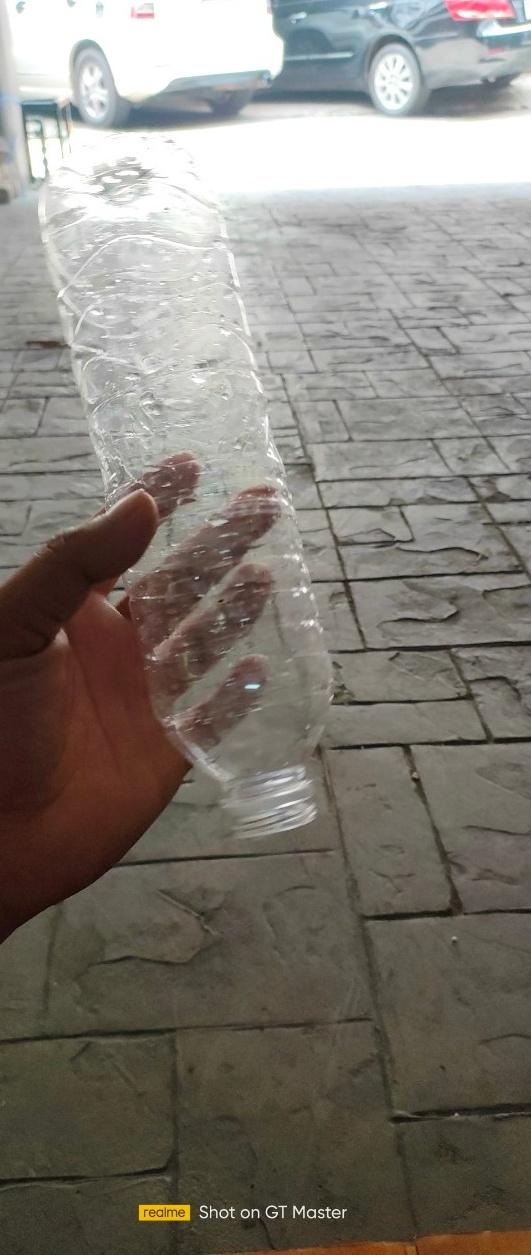plastic_bottle: (36, 128, 334, 839)
